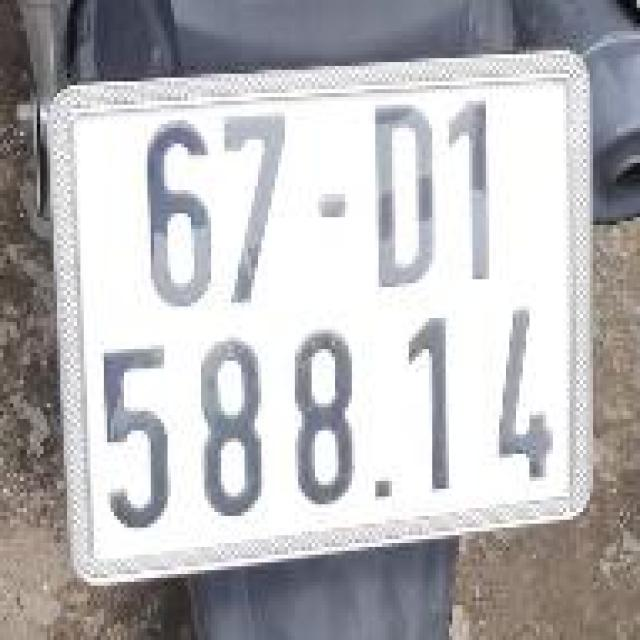1: (404, 306, 471, 492), (449, 91, 503, 281)
4: (482, 298, 563, 496)
5: (79, 326, 179, 539)
6: (139, 103, 223, 312)
7: (219, 108, 290, 306)
8: (192, 330, 270, 520), (283, 316, 357, 499)
D: (357, 95, 447, 305)
